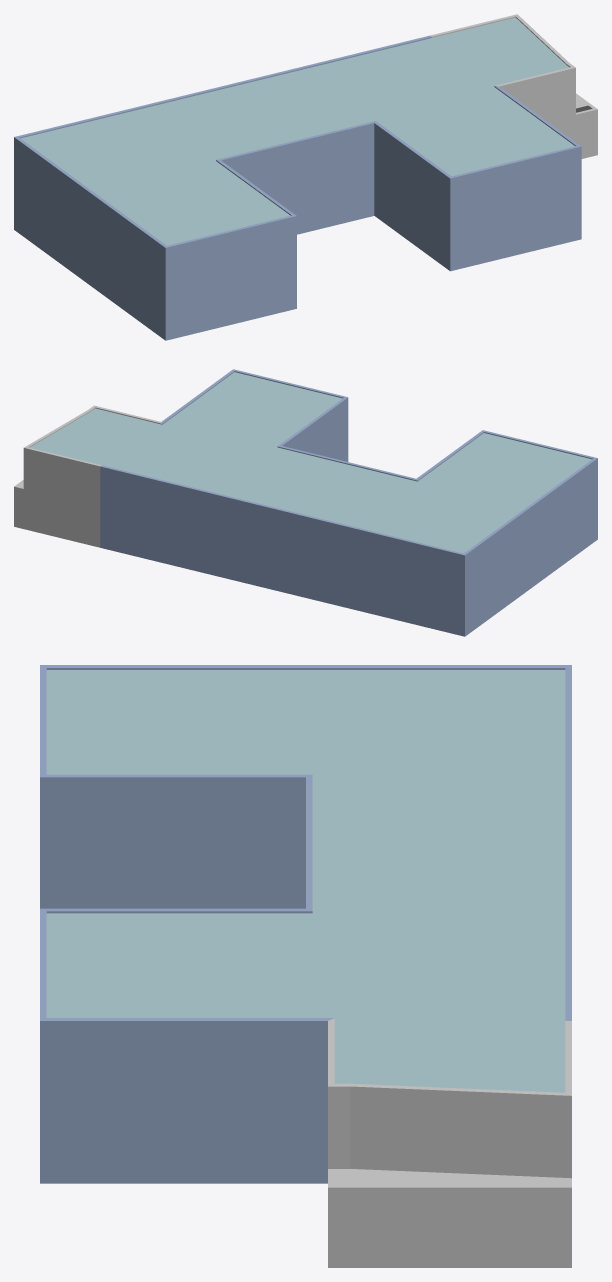
Rendered from plot1.fbx.
The picture shows the model from 3 angles, top to bottom: view 1: azimuth 30°, elevation 25°; view 2: azimuth 150°, elevation 25°; view 3: azimuth 270°, elevation 25°; orthographic projection. The views are drawn at different scales.
Parts seen in each view (by area): view 1: plot1_level0_floor, plot1_level-1_walls, plot1_level-2_walls; view 2: plot1_level0_floor, plot1_level-1_walls, plot1_level-2_walls; view 3: plot1_level0_floor, plot1_level-1_walls, plot1_level-2_walls, plot1_level-1_floor.
Boxes of the visible parts, x1=… form: plot1_level0_floor: x1=20, y1=17, x2=574, y2=245; plot1_level-1_walls: x1=14, y1=14, x2=581, y2=294; plot1_level-2_walls: x1=14, y1=100, x2=597, y2=340; plot1_level0_floor: x1=30, y1=372, x2=591, y2=553; plot1_level-1_walls: x1=23, y1=369, x2=597, y2=596; plot1_level-2_walls: x1=14, y1=439, x2=597, y2=636; plot1_level0_floor: x1=46, y1=670, x2=565, y2=1092; plot1_level-1_walls: x1=40, y1=665, x2=571, y2=1178; plot1_level-2_walls: x1=40, y1=859, x2=571, y2=1267; plot1_level-1_floor: x1=350, y1=1169, x2=571, y2=1187.
Bounding box in the file's own units: 4700 × 810 × 2400.
